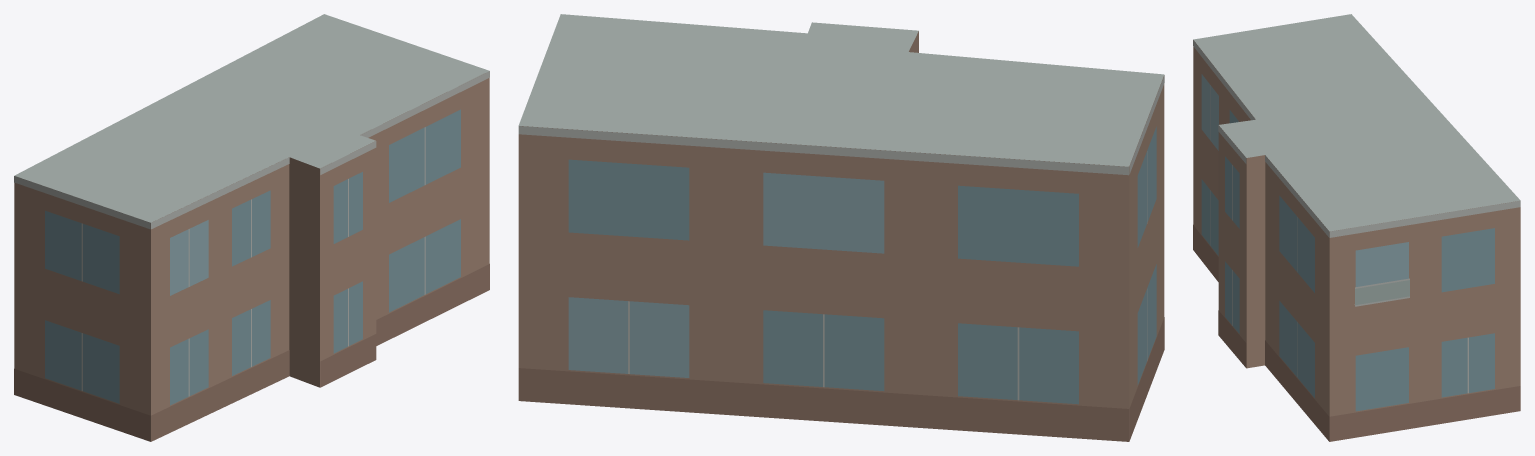
File: survey-upis-32962837.glb
3 renders of one model, left to right at view 1: azimuth 30°, elevation 25°; view 2: azimuth 150°, elevation 25°; view 3: azimuth 270°, elevation 25°, orthographic. The views are drawn at different scales.
Parts seen in each view (by area): view 1: survey-upis-32962837.tmp; view 2: survey-upis-32962837.tmp; view 3: survey-upis-32962837.tmp.
Boxes of the visible parts, x1,y1,x2,y2 form: survey-upis-32962837.tmp: [14, 14, 489, 441]; survey-upis-32962837.tmp: [518, 14, 1164, 441]; survey-upis-32962837.tmp: [1193, 14, 1520, 441].
Size of the model in its own units: 17.53 by 7.9 by 11.16.
